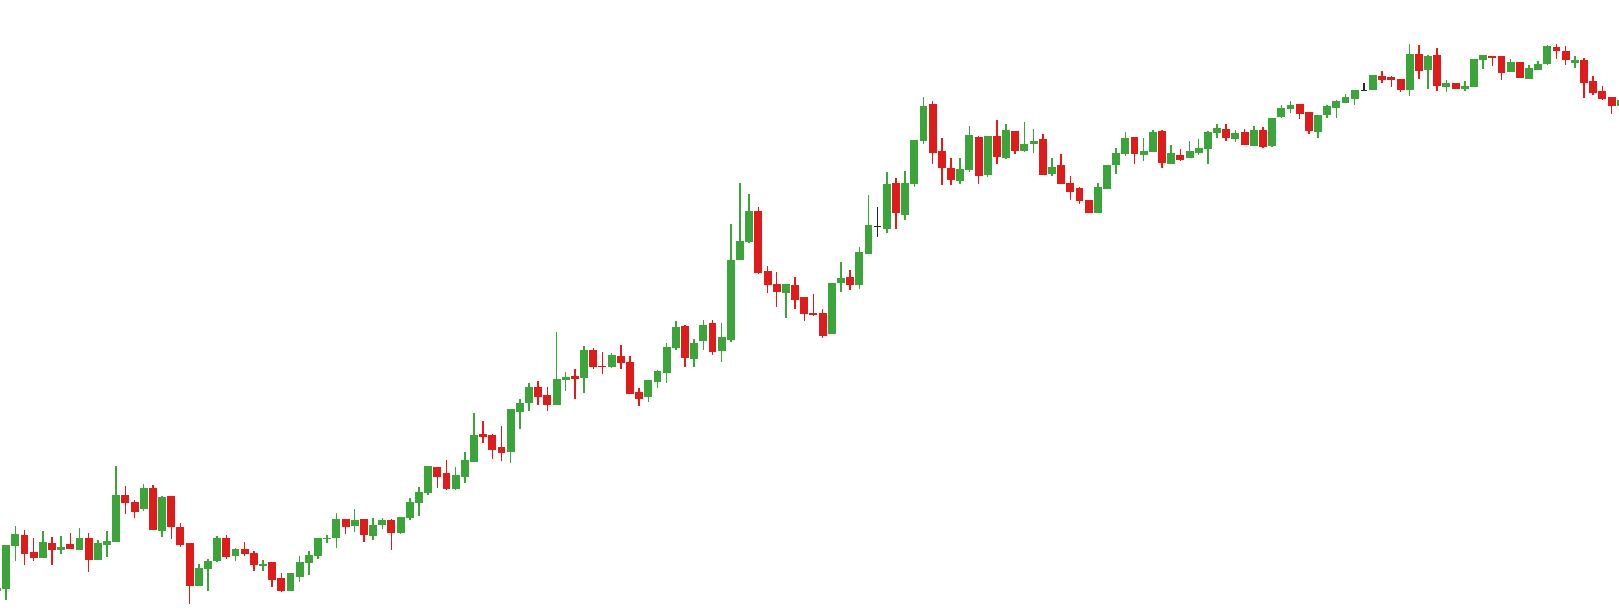buy: (85, 507, 214, 611), (578, 359, 655, 418)
